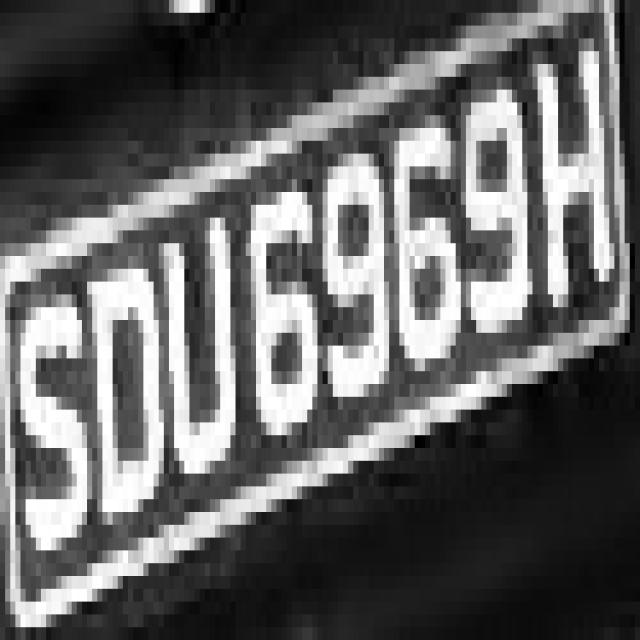6: (230, 166, 328, 461), (389, 102, 466, 422)
9: (297, 128, 389, 448), (450, 64, 528, 410)
D: (77, 218, 159, 538)
H: (532, 0, 620, 346)
S: (5, 243, 92, 602)
U: (163, 205, 240, 499)
